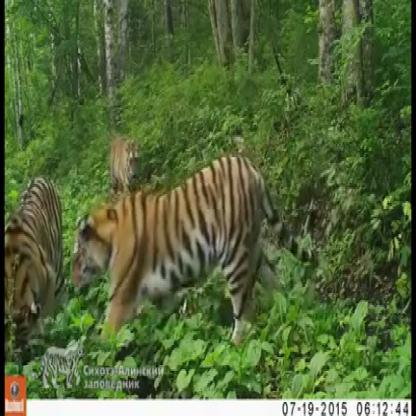Tiger: (73, 132, 275, 352), (2, 154, 81, 356), (100, 110, 148, 196)
